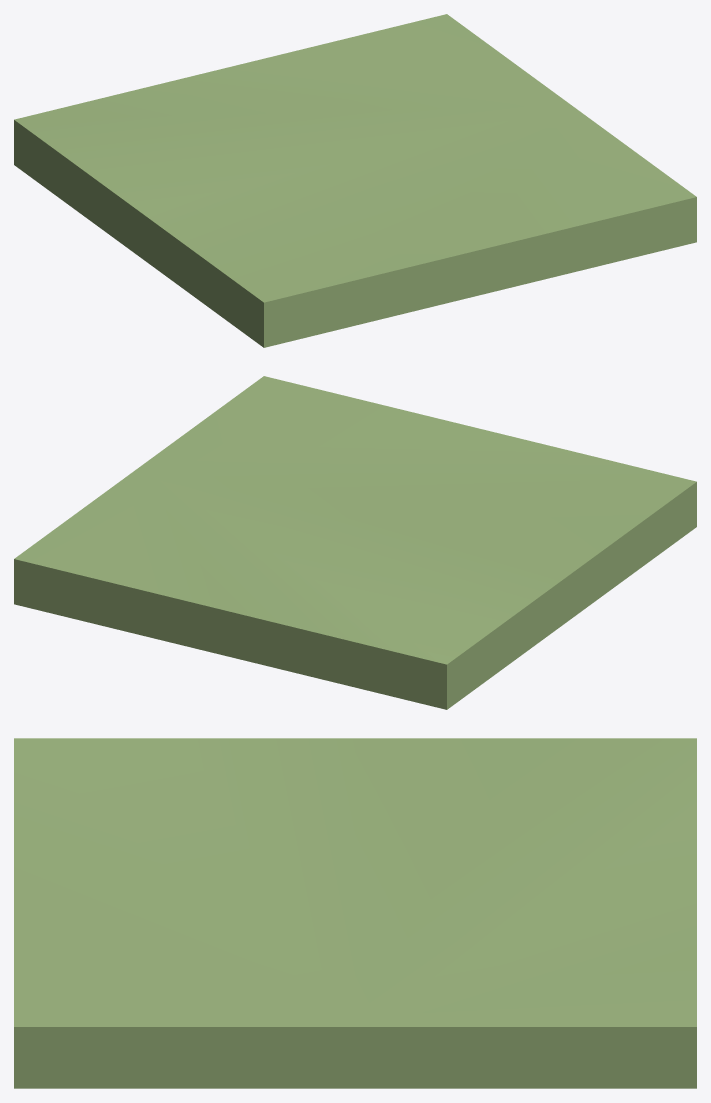
The model's file is Dual_Grid_L_L_L_L.fbx.
The picture shows the model from 3 angles, top to bottom: view 1: azimuth 30°, elevation 25°; view 2: azimuth 150°, elevation 25°; view 3: azimuth 270°, elevation 25°; orthographic projection. The views are drawn at different scales.
Visible parts, largest first — view 1: Tile_L_L_L_L; view 2: Tile_L_L_L_L; view 3: Tile_L_L_L_L.
Boxes of the visible parts, box(x1,y1,x2,y2) form: Tile_L_L_L_L: box(14, 14, 696, 347); Tile_L_L_L_L: box(14, 376, 696, 709); Tile_L_L_L_L: box(14, 738, 696, 1088).
Bounding box in the file's own units: 100 × 10 × 100.
